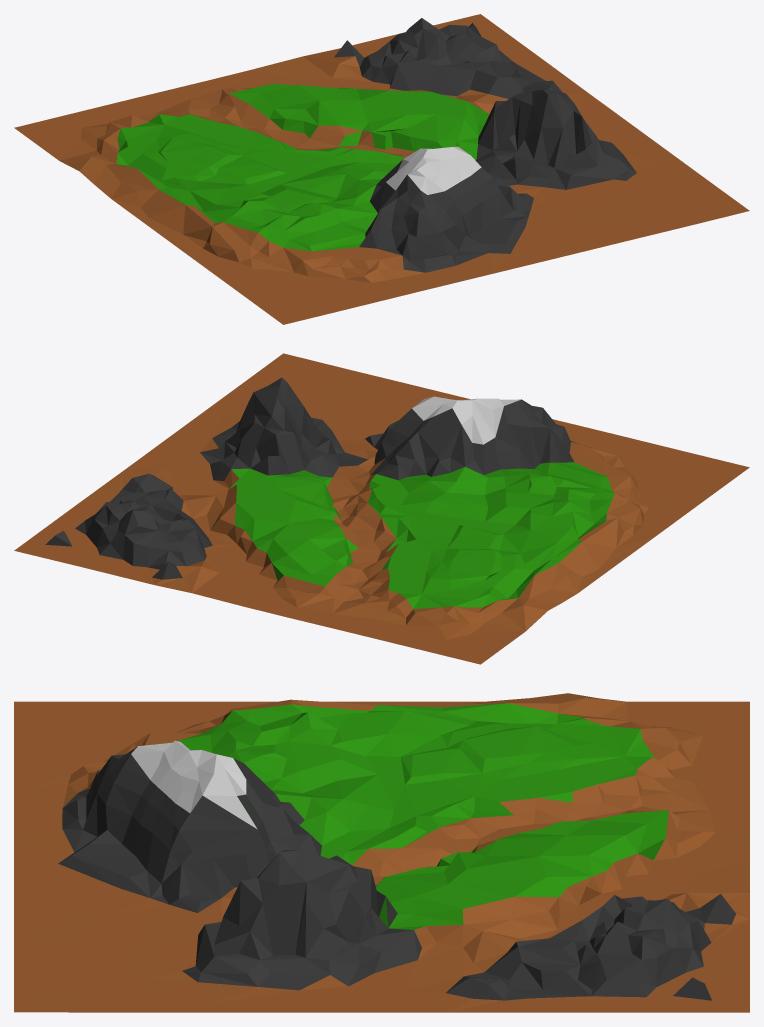
File: world.fbx
The picture shows the model from 3 angles, top to bottom: view 1: azimuth 30°, elevation 25°; view 2: azimuth 150°, elevation 25°; view 3: azimuth 270°, elevation 25°; orthographic projection. The views are drawn at different scales.
Visible parts, largest first — view 1: Plane; view 2: Plane; view 3: Plane.
Boxes of the visible parts, x1,y1,x2,y2 form: Plane: [14, 14, 749, 324]; Plane: [14, 353, 749, 664]; Plane: [14, 693, 749, 1012].
Size of the model in its own units: 20054 by 2934 by 20001.
